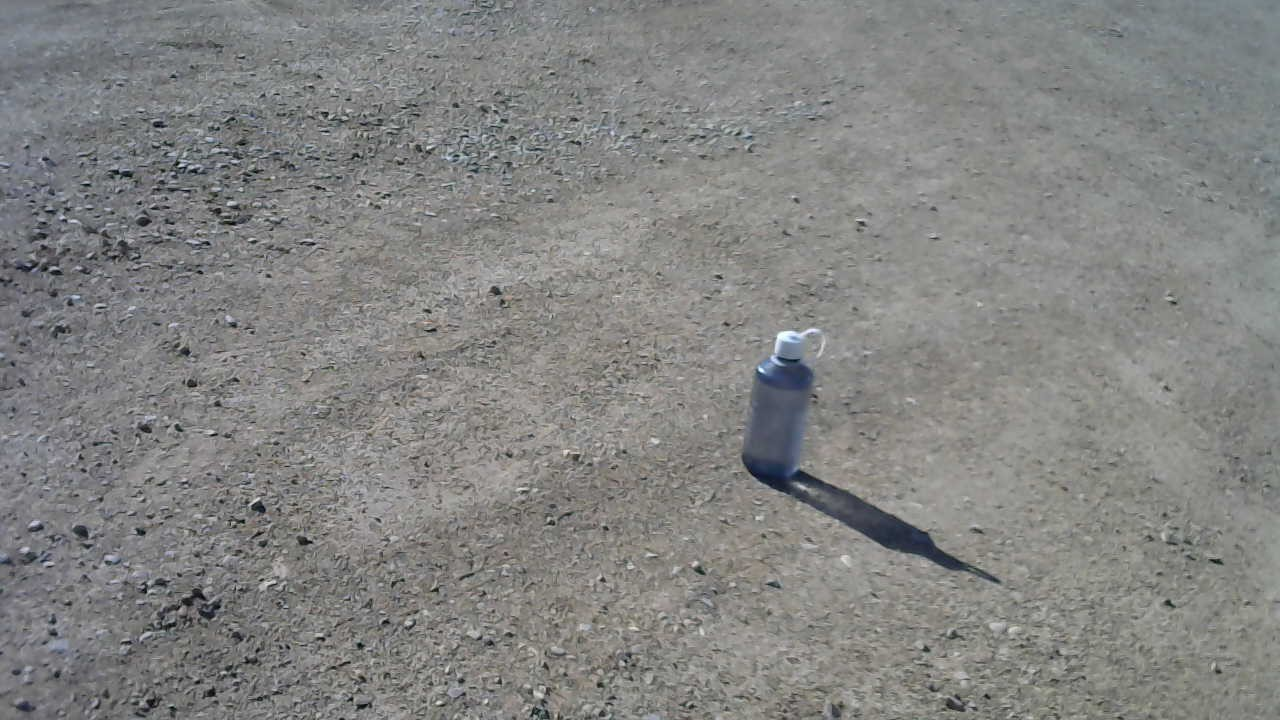bottle: (737, 326, 831, 482)
